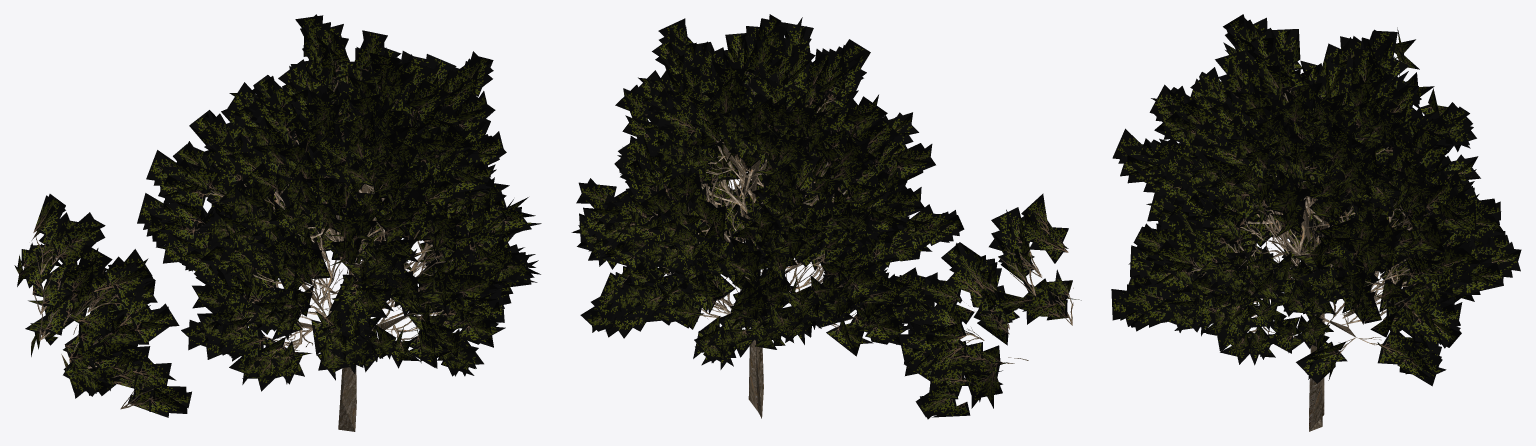
Rendered from leaf2.glb.
The picture shows the model from 3 angles, left to right: view 1: azimuth 30°, elevation 25°; view 2: azimuth 150°, elevation 25°; view 3: azimuth 270°, elevation 25°; orthographic projection. The views are drawn at different scales.
Parts seen in each view (by area): view 1: Model__Leaf, Model__Branch, Model__Bark; view 2: Model__Leaf, Model__Branch, Model__Bark; view 3: Model__Leaf, Model__Branch, Model__Bark.
Boxes of the visible parts, box(x1,y1,x2,y2) form: Model__Leaf: box(14, 14, 541, 417); Model__Branch: box(33, 60, 515, 409); Model__Bark: box(297, 184, 450, 431); Model__Leaf: box(571, 14, 1081, 419); Model__Branch: box(622, 67, 1073, 385); Model__Bark: box(706, 144, 822, 418); Model__Leaf: box(1111, 14, 1521, 386); Model__Branch: box(1160, 63, 1439, 362); Model__Bark: box(1249, 196, 1395, 431).
Size of the model in its own units: 6.46 by 5.5 by 5.09.
3 materials, 3 textured.
